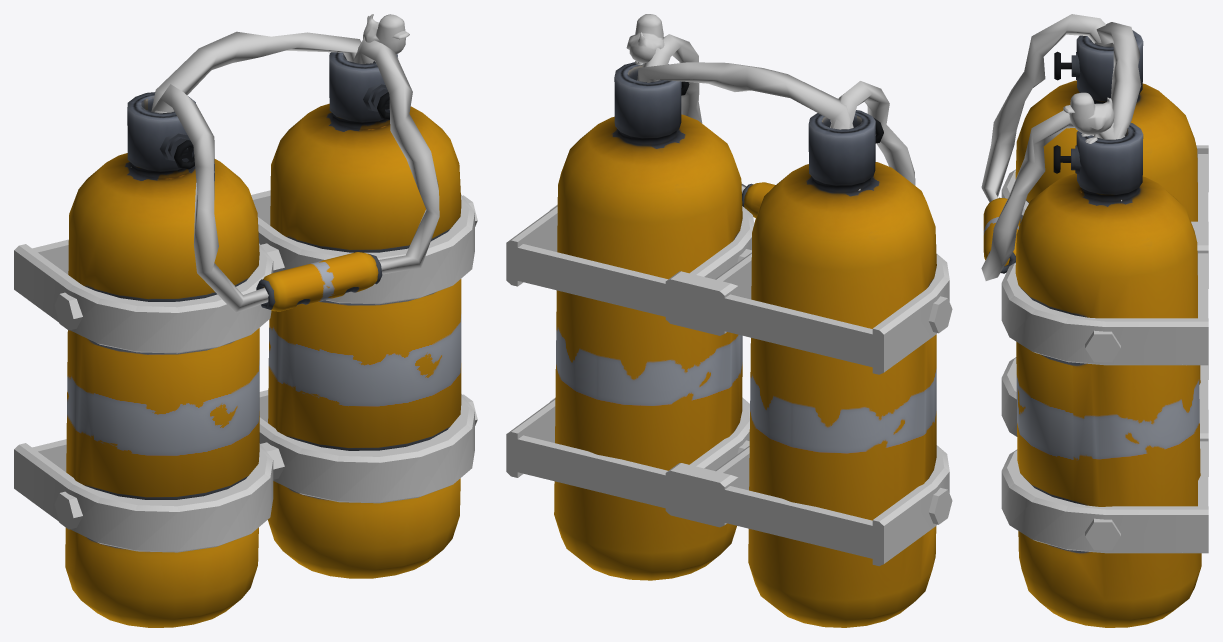
The model's file is OxygenTank.fbx.
3 renders of one model, left to right at view 1: azimuth 30°, elevation 25°; view 2: azimuth 150°, elevation 25°; view 3: azimuth 270°, elevation 25°, orthographic. The views are drawn at different scales.
Visible parts, largest first — view 1: char_male_default_backpack; view 2: char_male_default_backpack; view 3: char_male_default_backpack.
Boxes of the visible parts, <box> form: char_male_default_backpack: <box>14,14,477,627</box>; char_male_default_backpack: <box>506,14,952,627</box>; char_male_default_backpack: <box>981,14,1208,627</box>.
Bounding box in the file's own units: 2.16 × 2.79 × 1.12.
